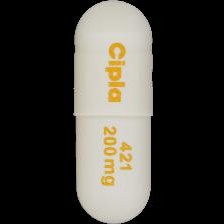68788-6393: (0, 0, 224, 224)
